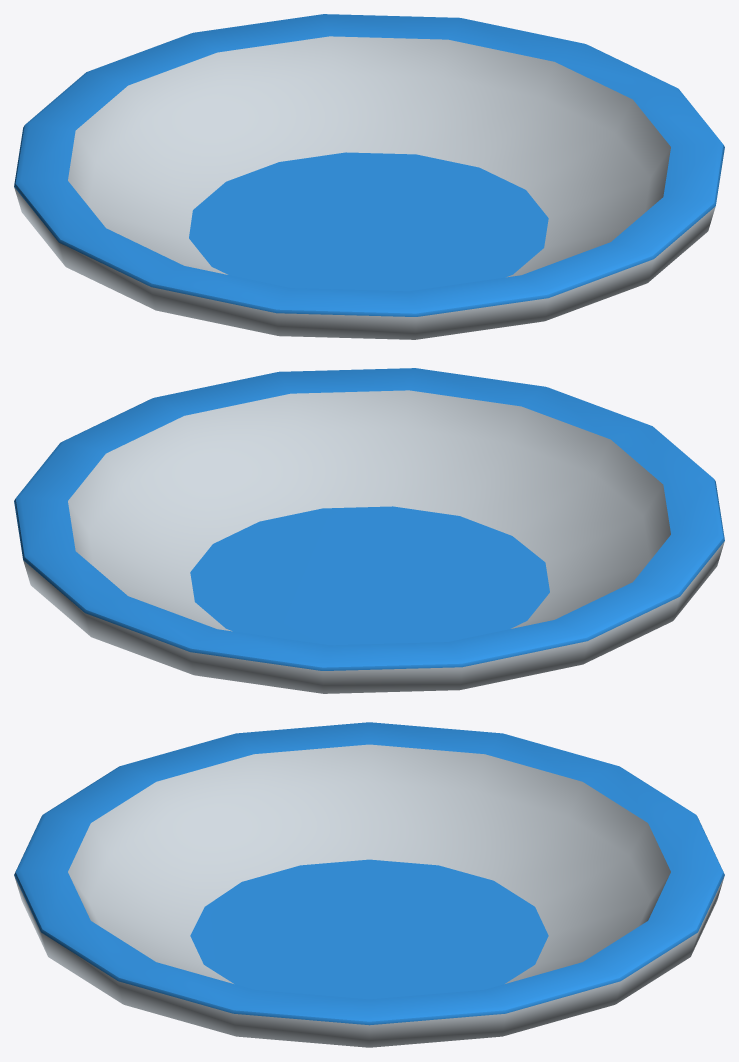
File: Plato hondo.fbx
3 views of the same model, one above another, from view 1: azimuth 30°, elevation 25°; view 2: azimuth 150°, elevation 25°; view 3: azimuth 270°, elevation 25° (orthographic).
Parts seen in each view (by area): view 1: Object006; view 2: Object006; view 3: Object006.
Part boxes in pixels (x1,y1,x2,y2): Object006: (14, 14, 724, 339); Object006: (14, 368, 724, 693); Object006: (14, 722, 724, 1047).
Bounding box in the file's own units: 40.87 × 4.54 × 40.87.
